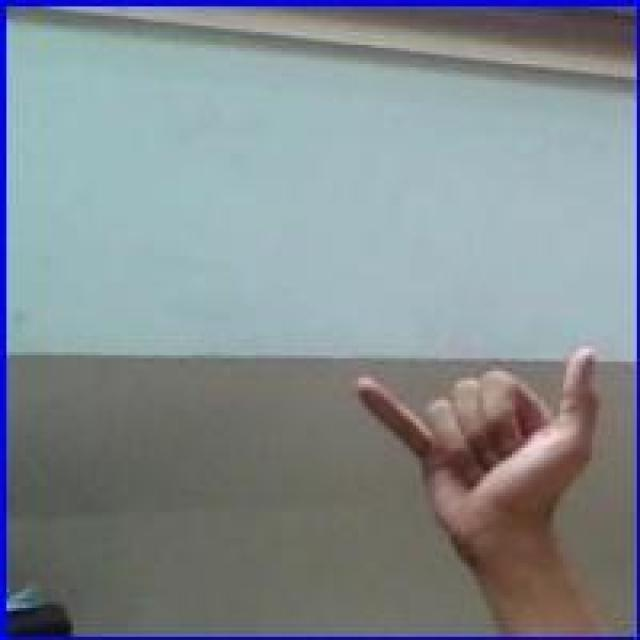Y: (348, 346, 606, 534)
